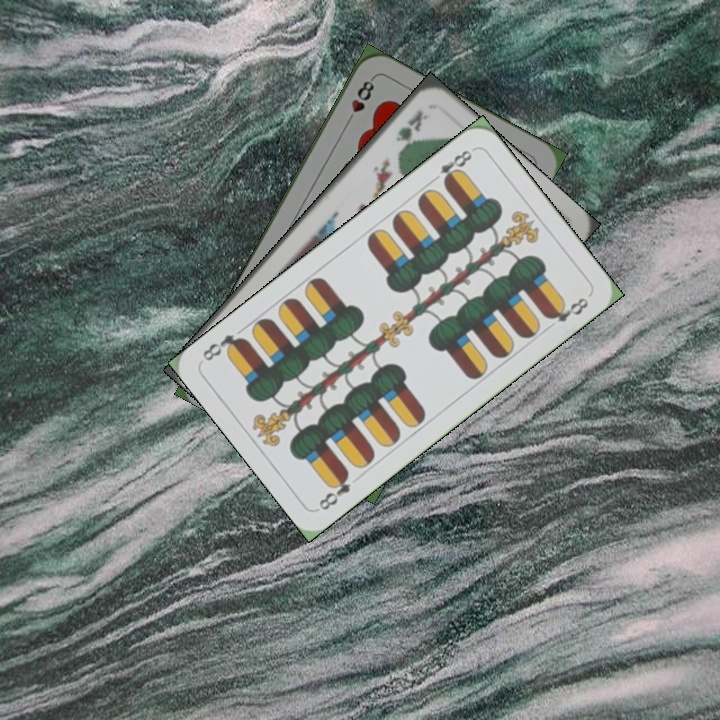E8: (426, 145, 475, 188), (314, 467, 353, 513)
GK: (391, 106, 431, 156)
H8: (341, 74, 377, 129)
